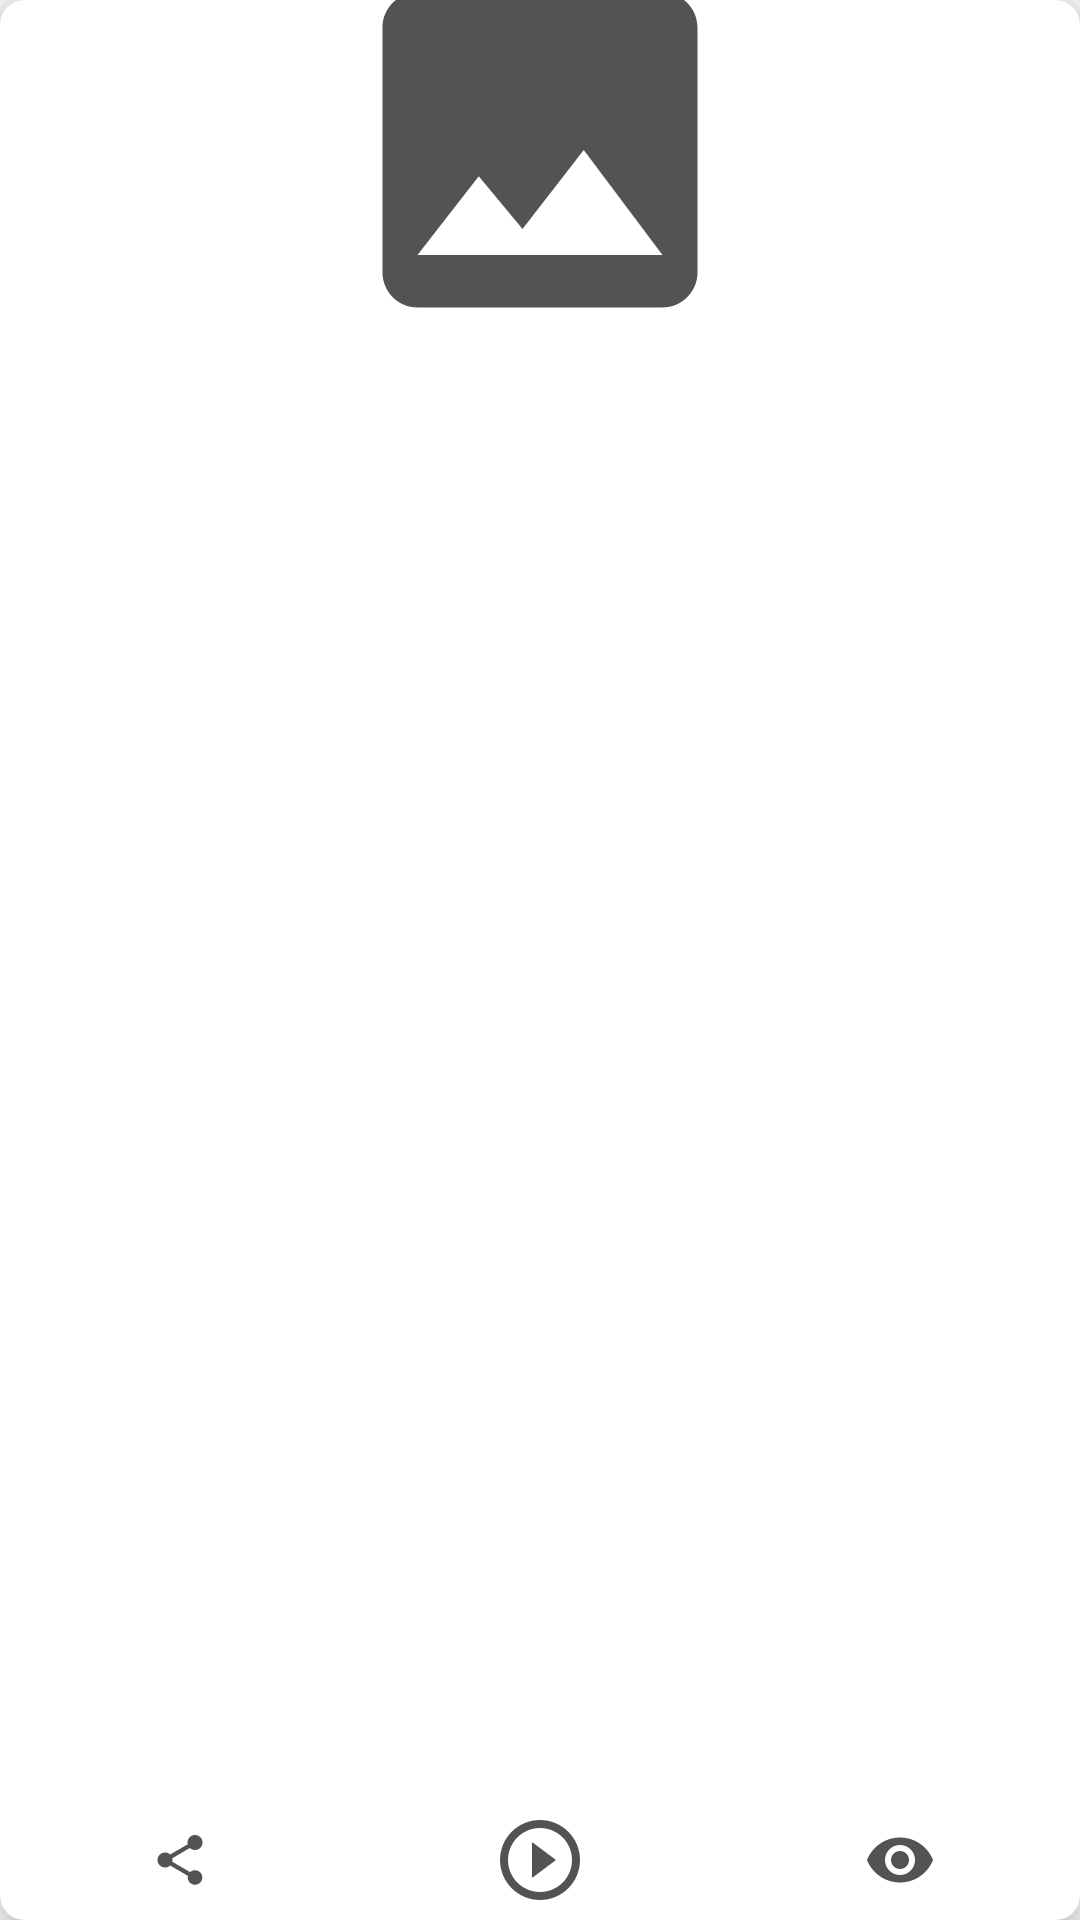

Screen size 1080 × 1920. Icon name, then its box in pixels as (x1, y1, x2, y2):
play: (500, 1820, 580, 1900)
